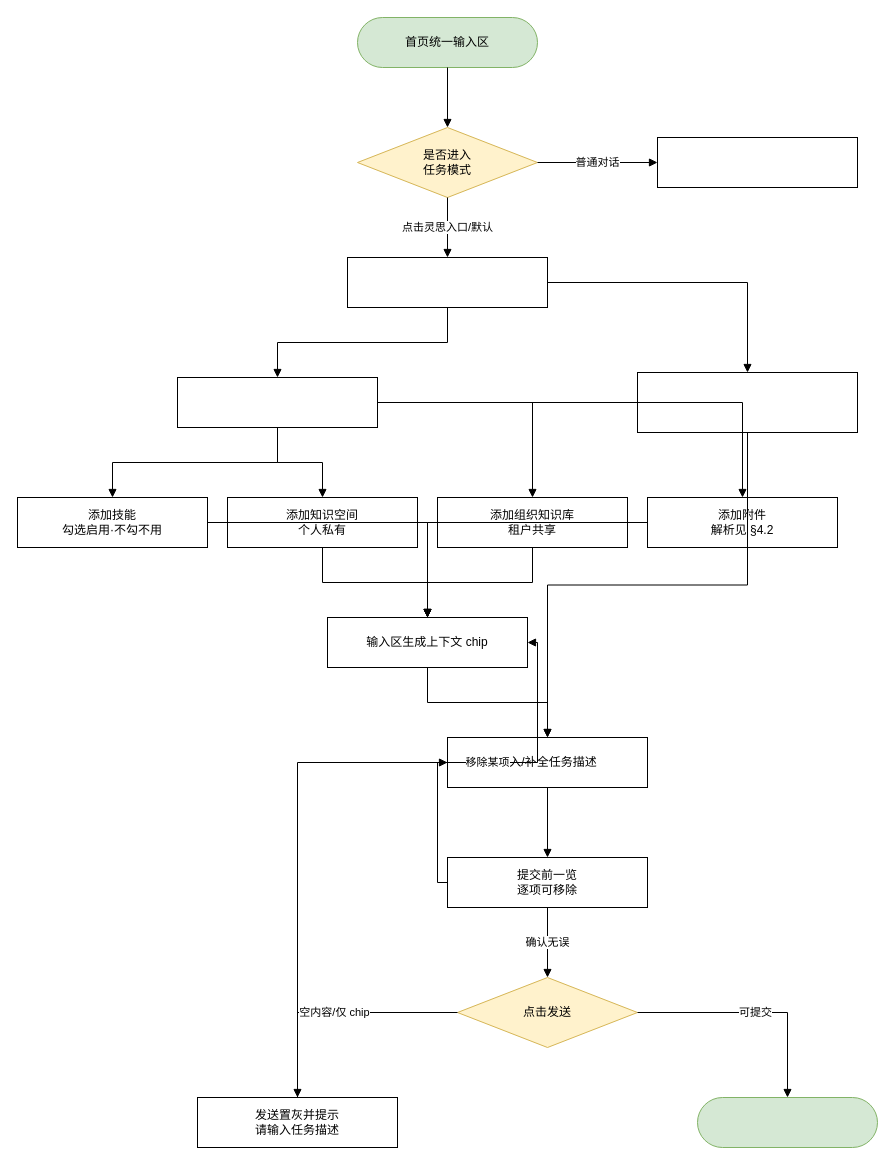
Image size: 895x1165. Some labels were removed from this diagram. The centre of each missing label's shape, as x and y in pixels:
提交任务 进入执行 §4.3: point 787,1122
显示任务模式 chip: point 447,282
普通对话模式 本节不展开: point 757,162
点开「+」菜单: point 277,402
输入框工具栏 选用预设工具·独立入口 同日常模式·不生成 chip: point 747,402
